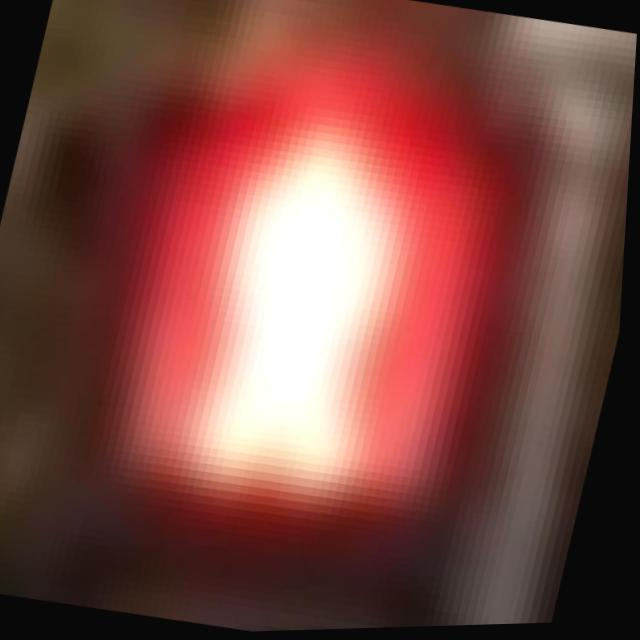red_light: (77, 62, 554, 583)
